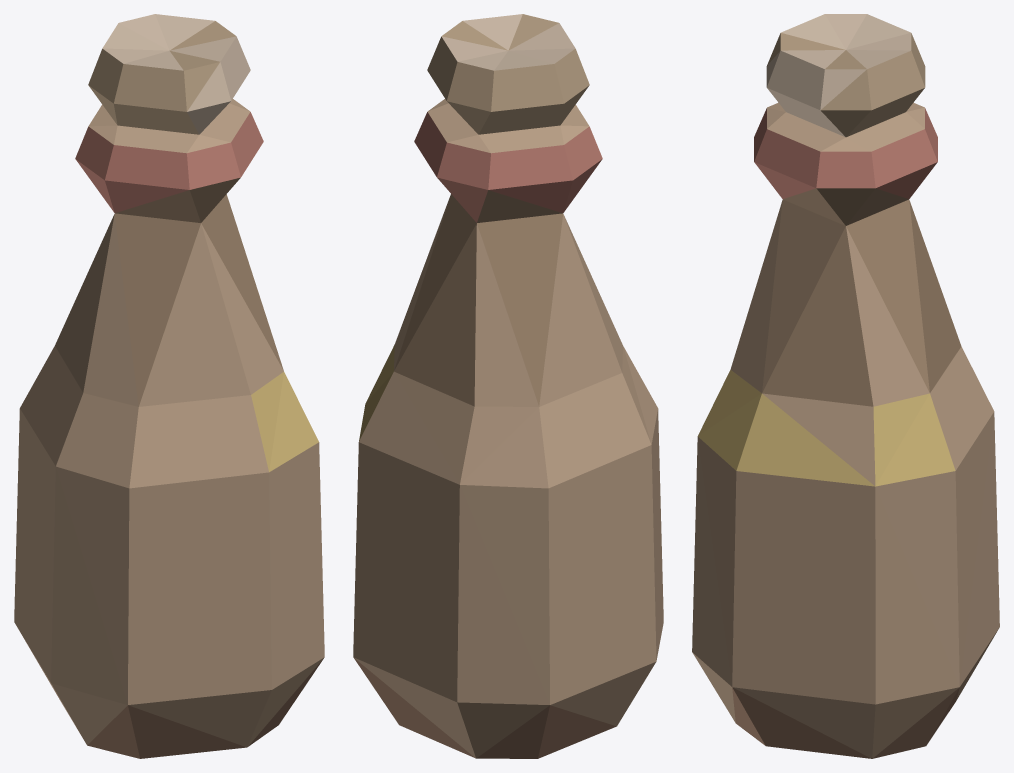
The picture shows the model from 3 angles, left to right: view 1: azimuth 30°, elevation 25°; view 2: azimuth 150°, elevation 25°; view 3: azimuth 270°, elevation 25°; orthographic projection.
Parts seen in each view (by area): view 1: model; view 2: model; view 3: model.
Part boxes in pixels (x1=…): model: x1=14, y1=14, x2=324, y2=758; model: x1=353, y1=14, x2=663, y2=758; model: x1=692, y1=14, x2=999, y2=758.
Size of the model in its own units: 0.2579 by 0.62 by 0.2579.
